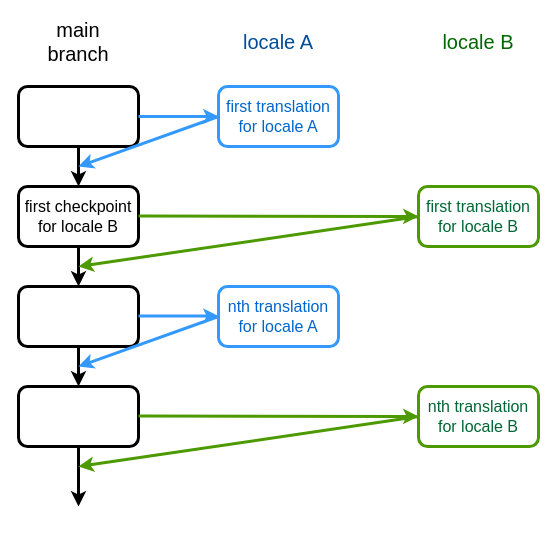
Some shapes in this 557 by 533 pixel diagram are drawn without their labels. The box of each missing label's shape, as (x1, y1, x2, y2) in pixels:
first checkpoint for locale A: (16, 84, 140, 148)
nth checkpoint for locale A: (16, 284, 140, 348)
nth checkpoint for locale B: (16, 384, 140, 448)
